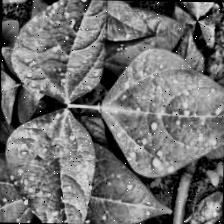Bean Rust: (101, 47, 224, 177), (7, 0, 116, 101), (9, 109, 99, 224), (77, 141, 175, 224)
